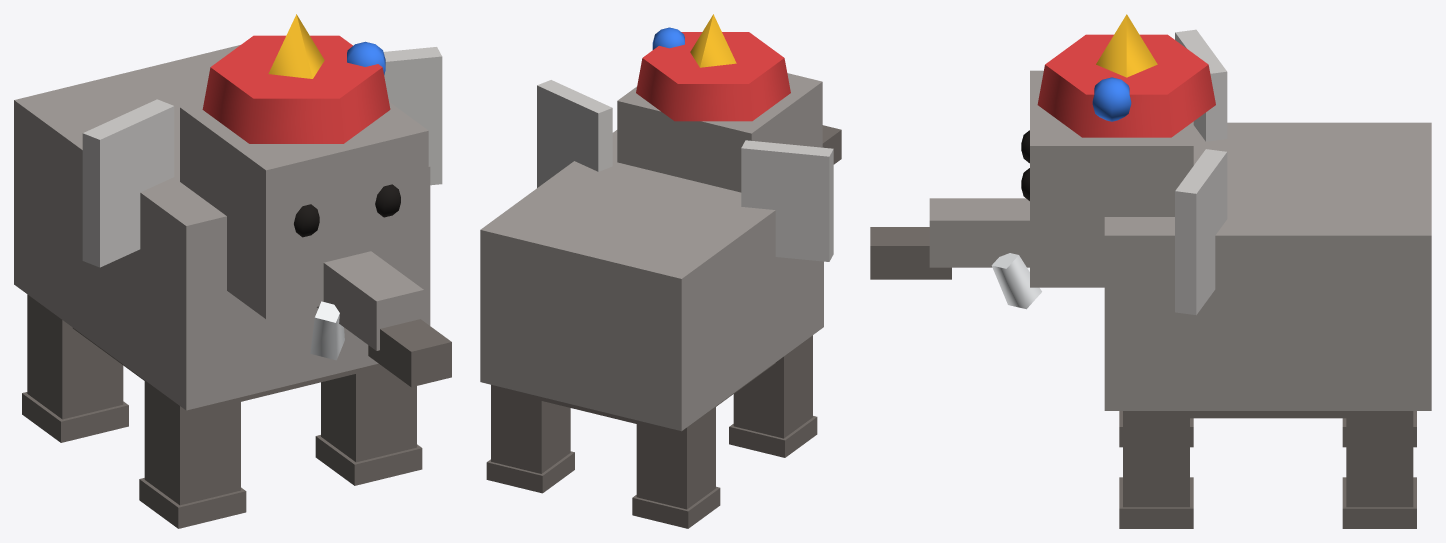
The model's file is CarnivalElephant.glb.
3 views of the same model, side by side, from view 1: azimuth 30°, elevation 25°; view 2: azimuth 150°, elevation 25°; view 3: azimuth 270°, elevation 25° (orthographic). The views are drawn at different scales.
Parts seen in each view (by area): view 1: CarnivalElephantBody; view 2: CarnivalElephantBody; view 3: CarnivalElephantBody.
Part boxes in pixels (<box>): CarnivalElephantBody: <box>14,14,451,528</box>; CarnivalElephantBody: <box>480,14,841,528</box>; CarnivalElephantBody: <box>870,14,1431,528</box>.
Size of the model in its own units: 1.05 by 1.36 by 1.51.
